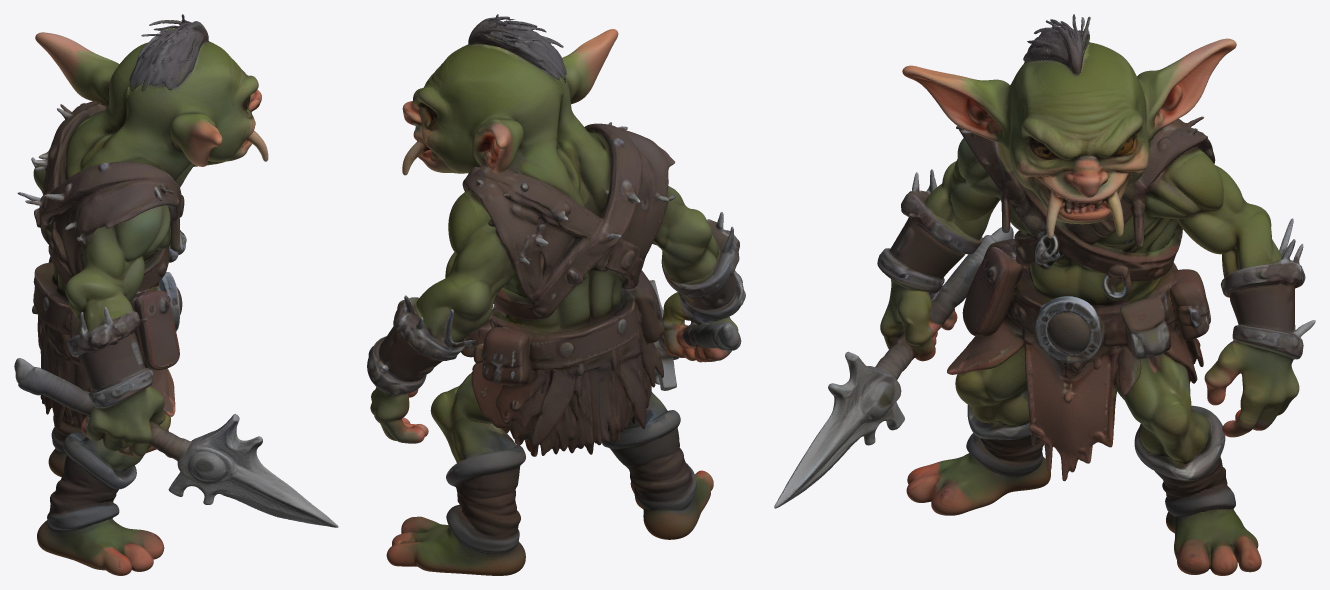
File: goblin.glb
3 renders of one model, left to right at view 1: azimuth 30°, elevation 25°; view 2: azimuth 150°, elevation 25°; view 3: azimuth 270°, elevation 25°, orthographic. The views are drawn at different scales.
Parts seen in each view (by area): view 1: tripo_node_440575ed-8bbd-4ad9-81f6-7729e70773e3; view 2: tripo_node_440575ed-8bbd-4ad9-81f6-7729e70773e3; view 3: tripo_node_440575ed-8bbd-4ad9-81f6-7729e70773e3.
Boxes of the visible parts, box(x1,y1,x2,y2) form: tripo_node_440575ed-8bbd-4ad9-81f6-7729e70773e3: box(14, 14, 338, 575); tripo_node_440575ed-8bbd-4ad9-81f6-7729e70773e3: box(367, 14, 745, 575); tripo_node_440575ed-8bbd-4ad9-81f6-7729e70773e3: box(774, 14, 1315, 575).
Bounding box in the file's own units: 0.6136 × 1 × 0.9021.
Materials: 1 (1 with a texture image).
